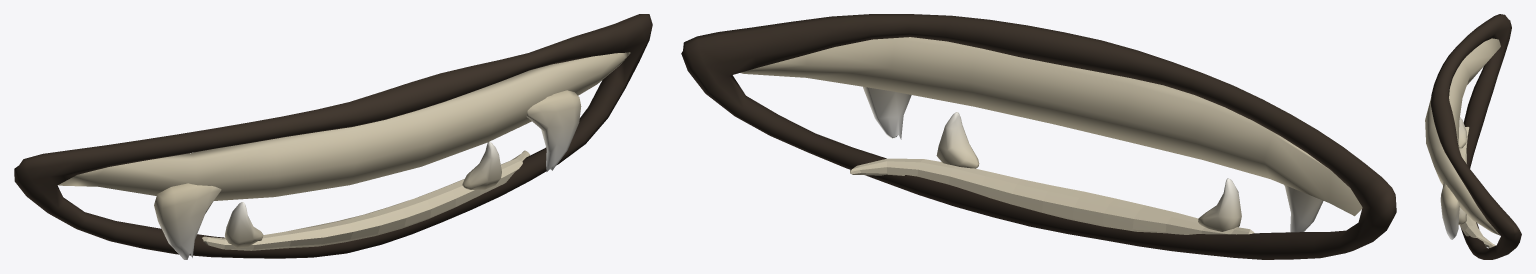
The model's file is devil_mouth2.fbx.
The picture shows the model from 3 angles, left to right: view 1: azimuth 30°, elevation 25°; view 2: azimuth 150°, elevation 25°; view 3: azimuth 270°, elevation 25°; orthographic projection. The views are drawn at different scales.
Visible parts, largest first — view 1: mouth3_polySurface1; view 2: mouth3_polySurface1; view 3: mouth3_polySurface1.
Boxes of the visible parts, x1,y1,x2,y2 form: mouth3_polySurface1: (14,14,652,259); mouth3_polySurface1: (681,14,1396,259); mouth3_polySurface1: (1425,14,1521,259).
Size of the model in its own units: 1.53 by 0.38 by 0.3029.
